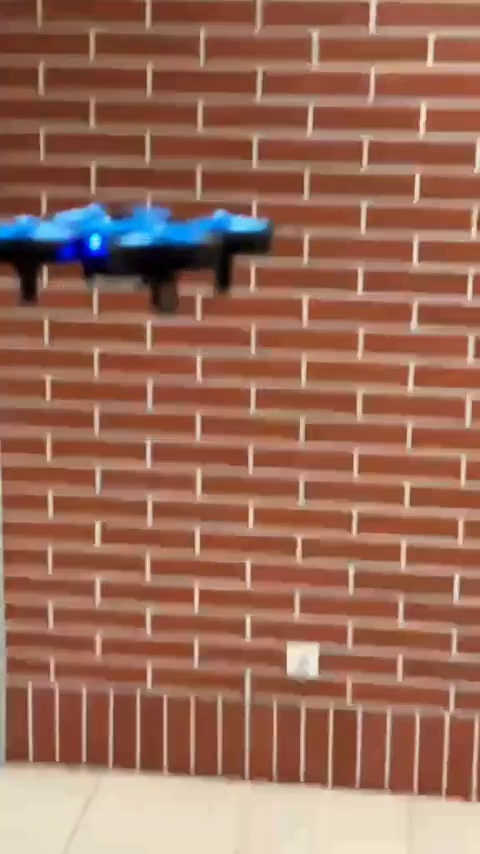drone: (5, 201, 276, 303)
